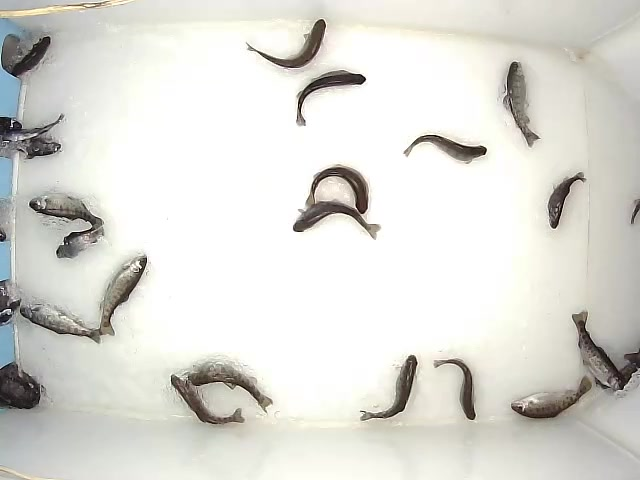fish: (570, 309, 626, 392), (187, 364, 274, 414), (295, 69, 367, 129), (96, 254, 148, 337), (243, 18, 327, 69), (359, 353, 420, 421), (170, 373, 245, 426), (293, 198, 381, 241), (510, 375, 594, 419), (19, 302, 104, 345), (502, 60, 542, 149), (305, 162, 370, 214), (27, 187, 106, 229), (432, 357, 478, 422), (402, 134, 487, 165), (547, 171, 587, 230), (55, 225, 106, 261)
